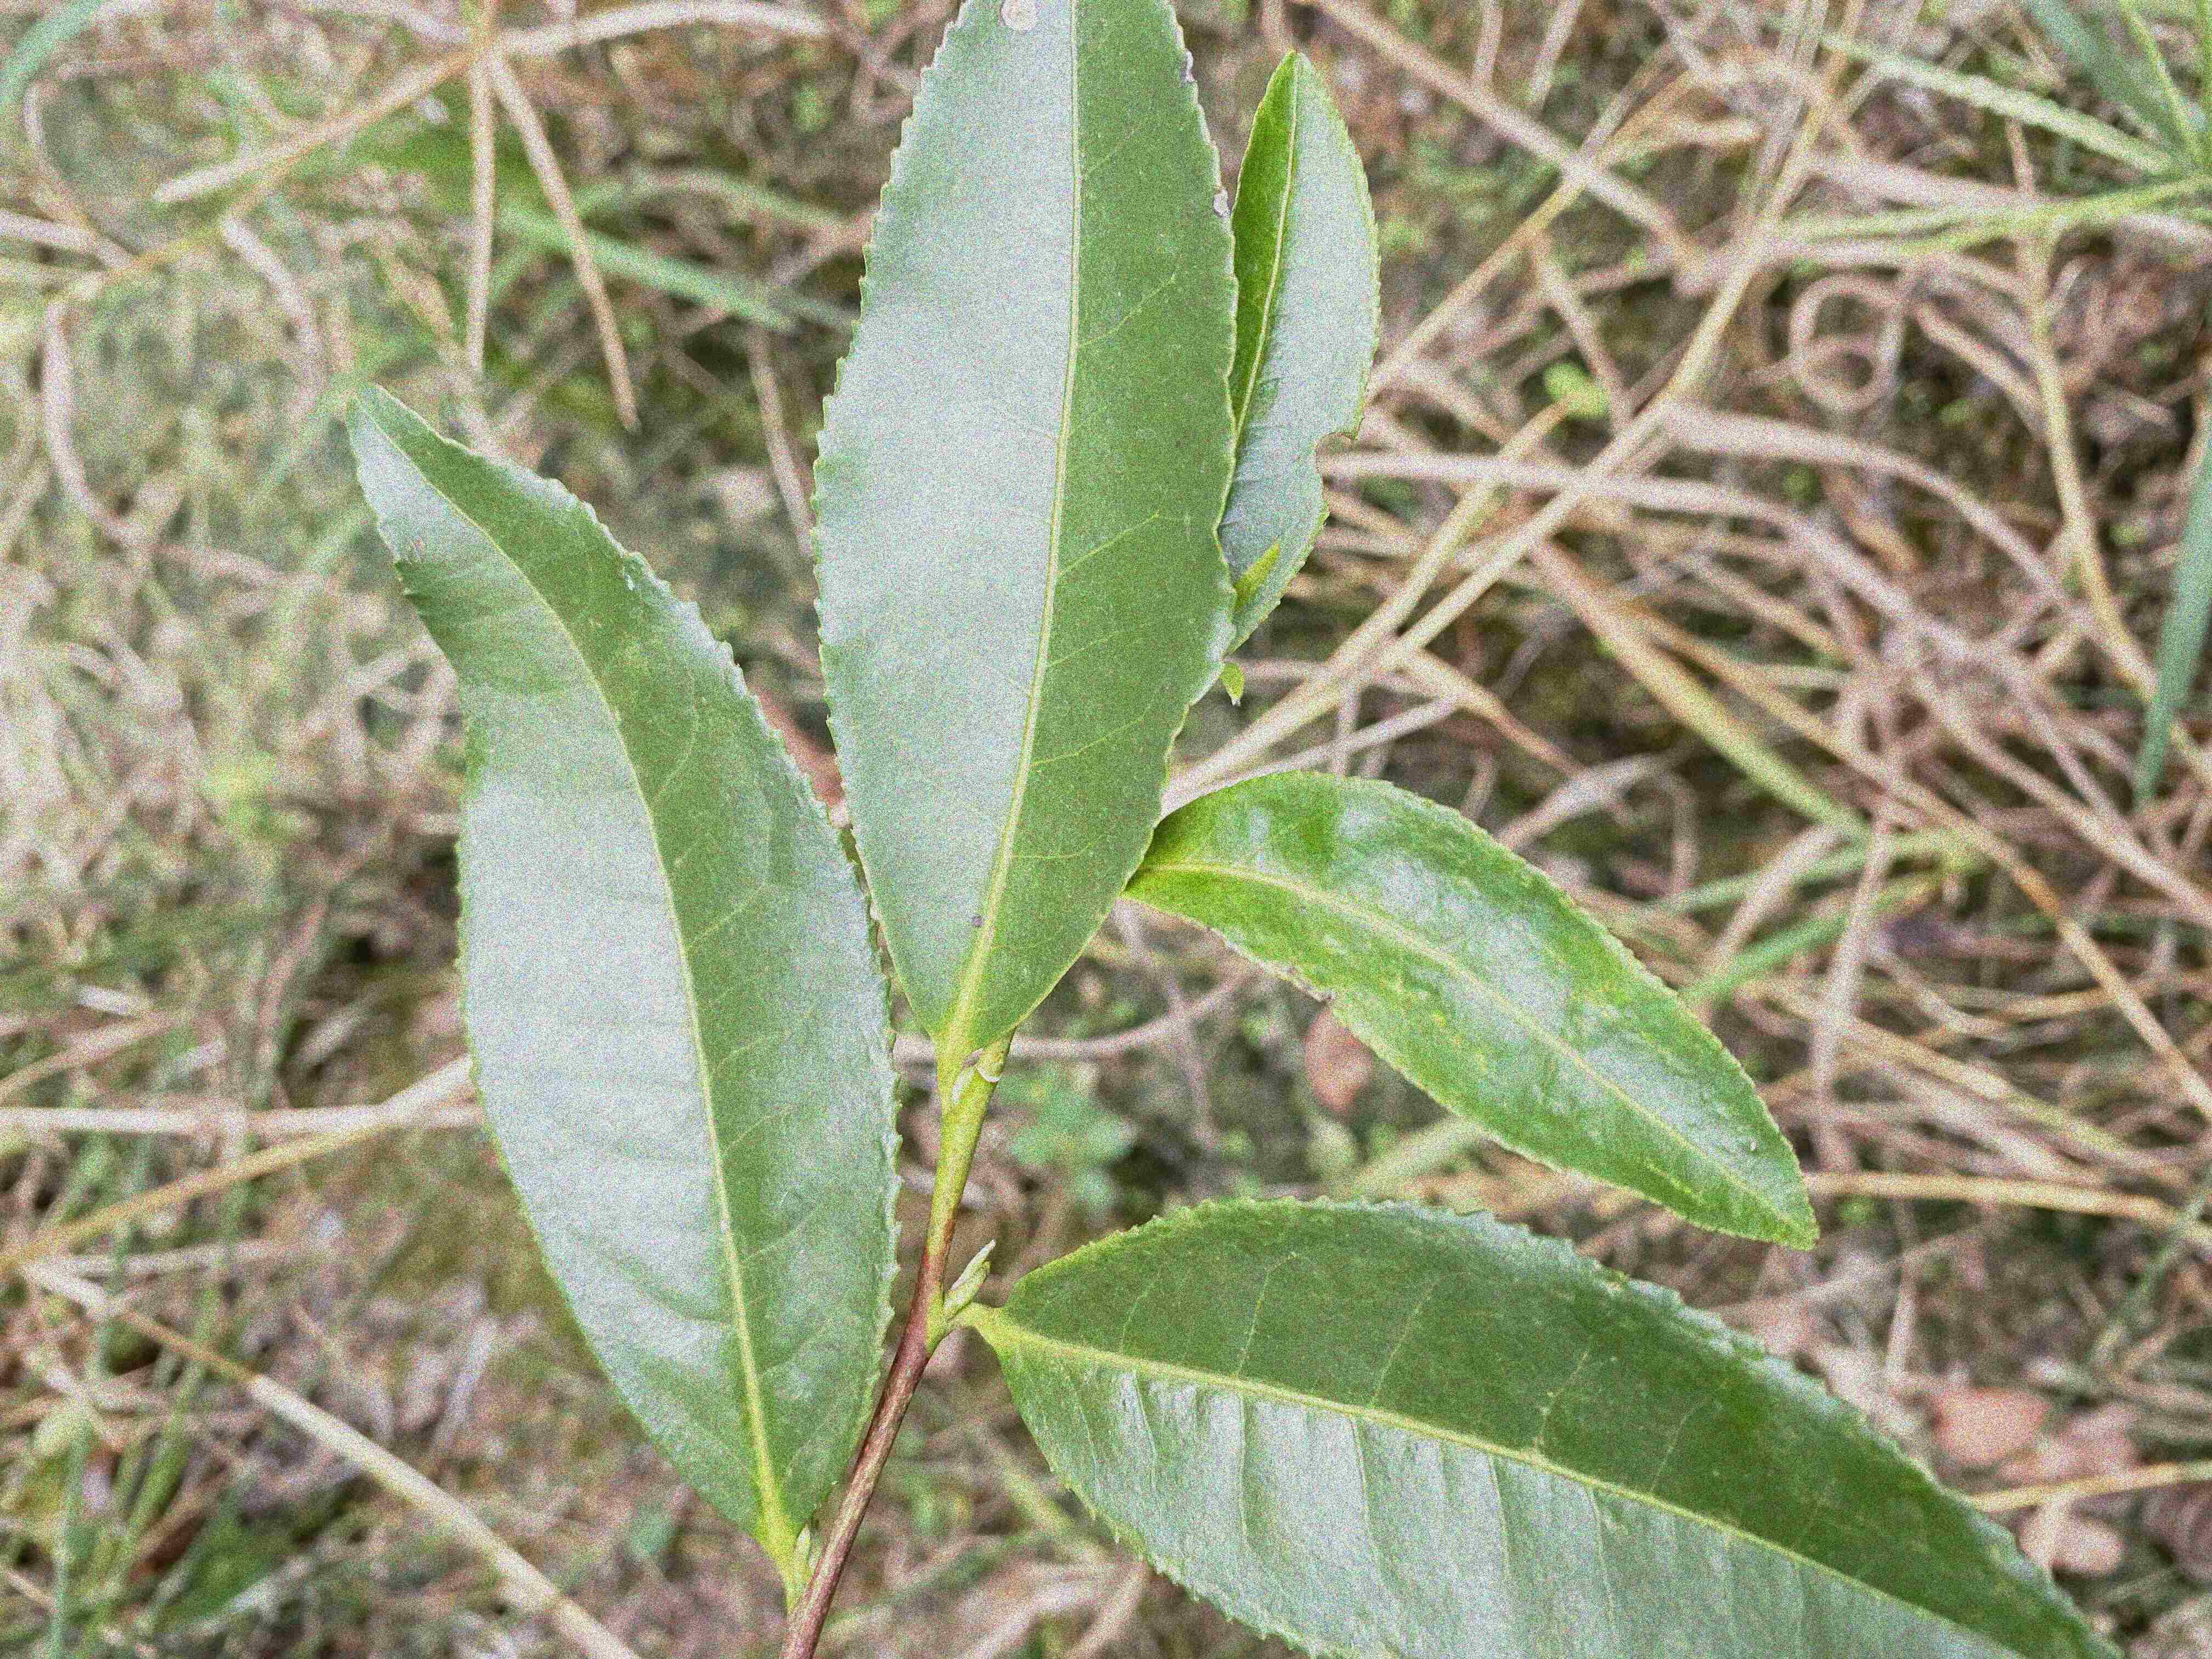chihuo_low: (1219, 45, 1385, 652)
healthy: (338, 375, 906, 1561), (995, 1195, 2135, 1657), (808, 54, 1240, 1066), (1116, 779, 1822, 1249)
